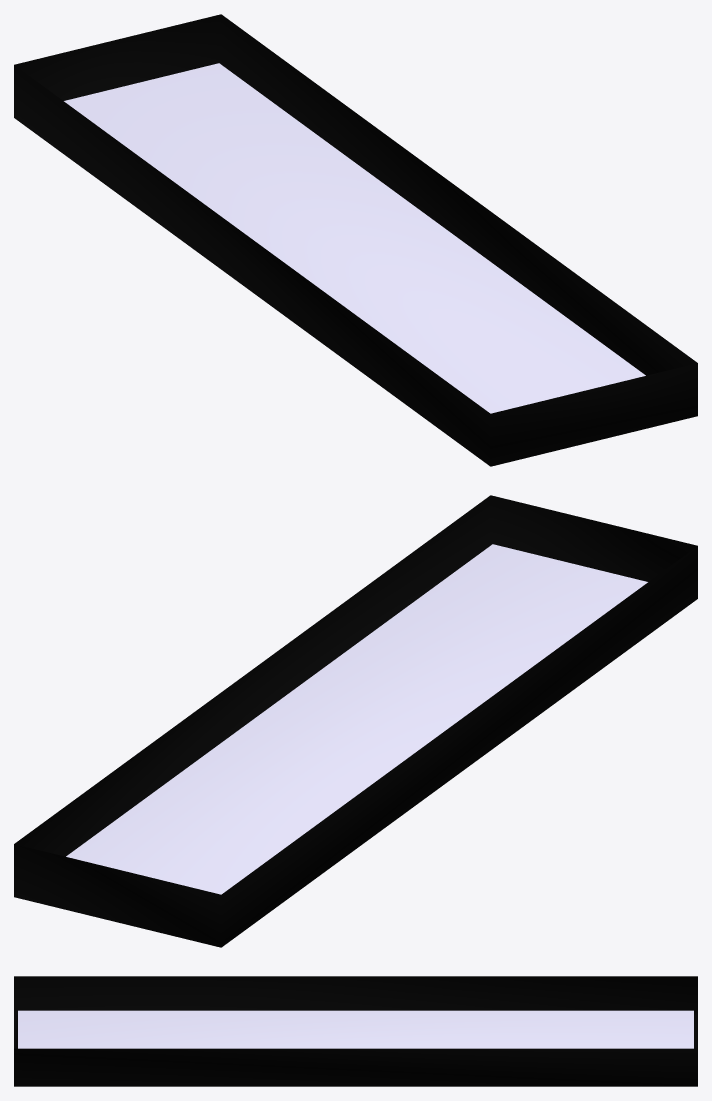
Rendered from ligthbathroom.glb.
The picture shows the model from 3 angles, top to bottom: view 1: azimuth 30°, elevation 25°; view 2: azimuth 150°, elevation 25°; view 3: azimuth 270°, elevation 25°; orthographic projection. The views are drawn at different scales.
Visible parts, largest first — view 1: LAMP.001, LAMP.002; view 2: LAMP.001, LAMP.002; view 3: LAMP.001, LAMP.002.
Part boxes in pixels (box(x1,y1,x2,y2)): LAMP.001: box(14, 14, 697, 466); LAMP.002: box(64, 63, 645, 413); LAMP.001: box(14, 495, 697, 947); LAMP.002: box(66, 544, 647, 894); LAMP.001: box(14, 976, 697, 1086); LAMP.002: box(18, 1010, 693, 1048).
Bounding box in the file's own units: 0.2968 × 0.0726 × 1.18.
